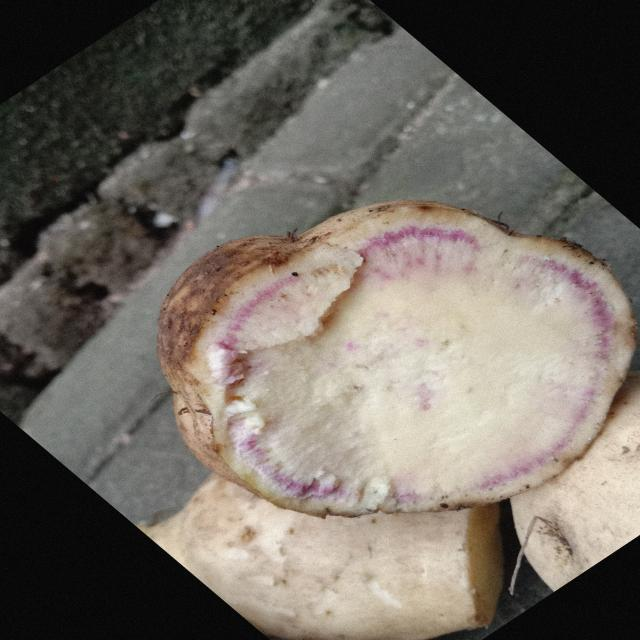Healthy Sweet Potato: (190, 201, 635, 516)
